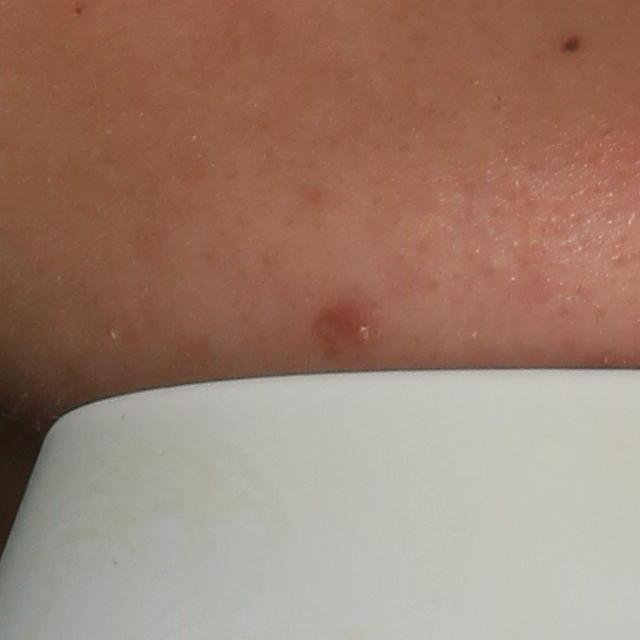nevus: (551, 24, 585, 62)
